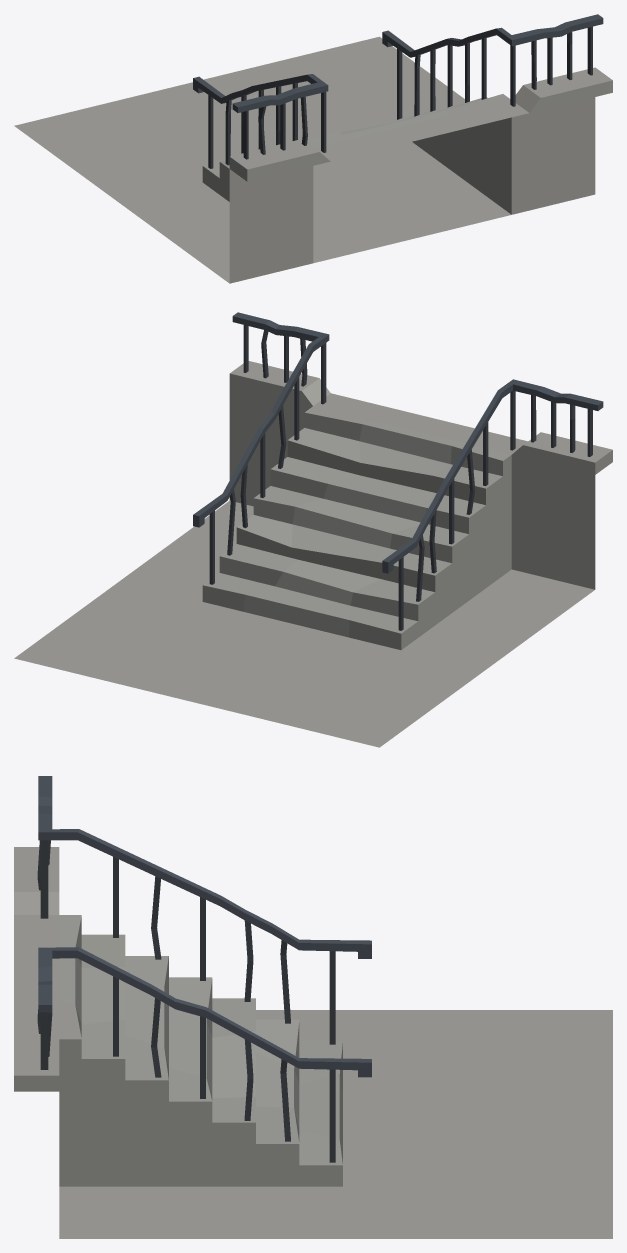
The model's file is SM_Bld_Apartment_Stairs_03.fbx.
3 views of the same model, one above another, from view 1: azimuth 30°, elevation 25°; view 2: azimuth 150°, elevation 25°; view 3: azimuth 270°, elevation 25° (orthographic). The views are drawn at different scales.
Parts seen in each view (by area): view 1: SM_Bld_Apartment_Stairs_03; view 2: SM_Bld_Apartment_Stairs_03; view 3: SM_Bld_Apartment_Stairs_03.
Part boxes in pixels (x1,y1,x2,y2): SM_Bld_Apartment_Stairs_03: (14, 14, 612, 283); SM_Bld_Apartment_Stairs_03: (14, 312, 612, 747); SM_Bld_Apartment_Stairs_03: (14, 776, 612, 1238).
Size of the model in its own units: 5 by 2.39 by 5.53.
1 material, 1 textured.
